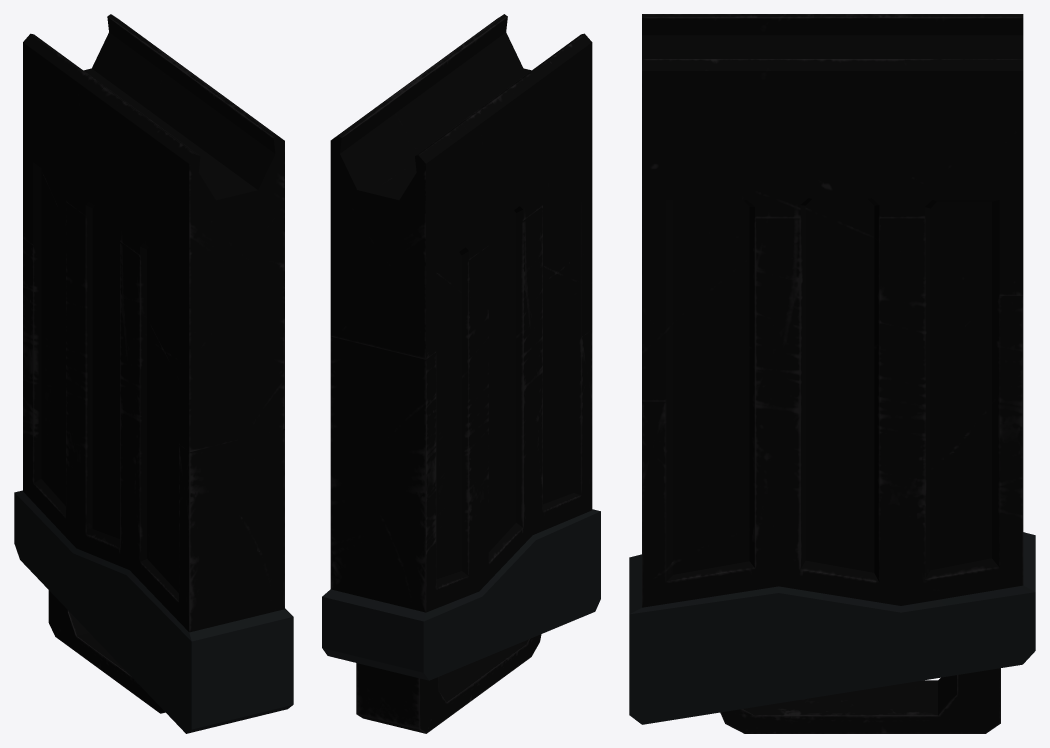
The model's file is SemiAutoRifleMagazine.fbx.
The picture shows the model from 3 angles, left to right: view 1: azimuth 30°, elevation 25°; view 2: azimuth 150°, elevation 25°; view 3: azimuth 270°, elevation 25°; orthographic projection. The views are drawn at different scales.
Visible parts, largest first — view 1: SemiAutoMagazine; view 2: SemiAutoMagazine; view 3: SemiAutoMagazine.
Part boxes in pixels (bbox=[...]): SemiAutoMagazine: bbox=[14, 14, 293, 733]; SemiAutoMagazine: bbox=[322, 14, 600, 733]; SemiAutoMagazine: bbox=[629, 14, 1035, 733].
Bounding box in the file's own units: 17.53 × 97.65 × 52.88.
